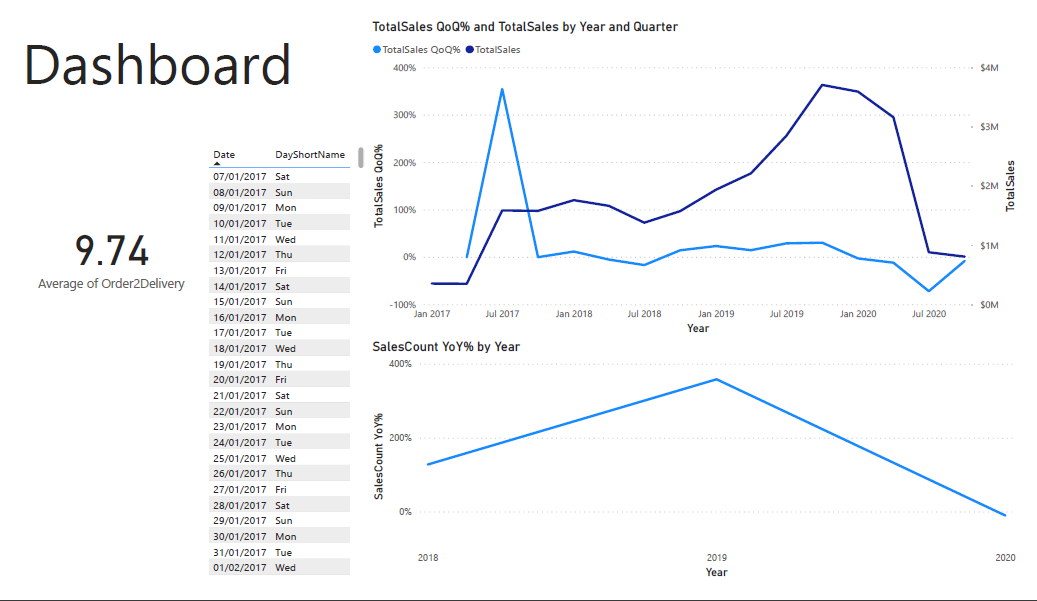

This screenshot's page, from the dashboard's own definition file:
{"tool":"powerbi","page":{"name":"Compiled","canvas":[1280,720],"ordinal":4},"visuals":[{"type":"lineChart","fields":{"Y":["Calculations.SalesCount YoY%"],"Category":["Dates.Date.Variation.Date Hierarchy.Year","Dates.Date.Variation.Date Hierarchy.Quarter","Dates.Date.Variation.Date Hierarchy.Month","Dates.Date.Variation.Date Hierarchy.Day"]},"box":[447.8,407.5,832.3,312.5],"z":0},{"type":"lineChart","fields":{"Y":["Calculations.TotalSales QoQ%"],"Category":["Dates.Date.Variation.Date Hierarchy.Year","Dates.Date.Variation.Date Hierarchy.Quarter","Dates.Date.Variation.Date Hierarchy.Month","Dates.Date.Variation.Date Hierarchy.Day"],"Y2":["Calculations.TotalSales"]},"box":[447.8,0,832.3,407.5],"z":1},{"type":"card","fields":{"Values":["Avg(Sales.Order2Delivery)"]},"box":[0,159.8,239,279.4],"z":2},{"type":"tableEx","fields":{"Values":["Dates.Date","Dates.DayShortName"]},"box":[239,158.4,208.8,561.6],"z":3},{"type":"textbox","box":[0,0,436.3,158.4],"z":4}]}

Visuals, with their boxes in screenshot pixels (x1, y1, x2, y2), scaled from the page's 1280x720 canvas onto the 1037x601 screenshot:
lineChart - Calculations.SalesCount YoY% x Dates.Date.Variation.Date Hierarchy.Year: bbox(363, 340, 1036, 600)
lineChart - Calculations.TotalSales QoQ% x Dates.Date.Variation.Date Hierarchy.Year: bbox(363, 0, 1036, 340)
card - Avg(Sales.Order2Delivery): bbox(0, 133, 194, 367)
tableEx - Dates.Date x Dates.DayShortName: bbox(194, 132, 363, 600)
textbox: bbox(0, 0, 353, 132)
